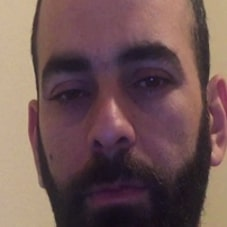drowsy: (39, 36, 192, 219)
